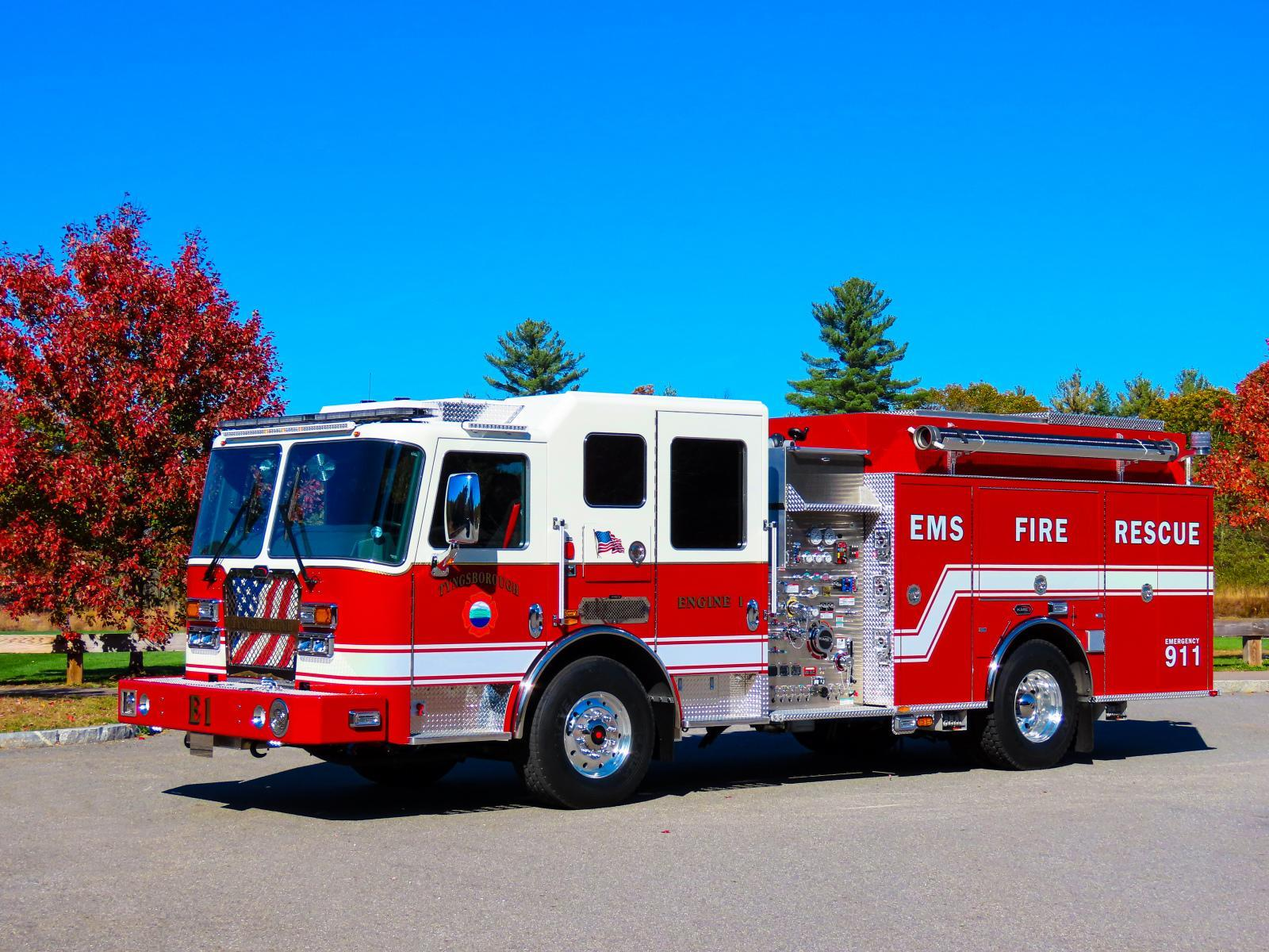Fire-engine: (120, 393, 1219, 812)
